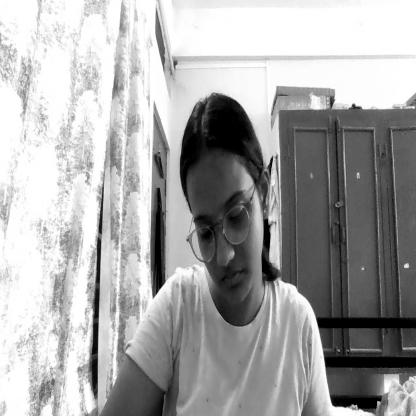Distracted: (184, 96, 276, 308)
